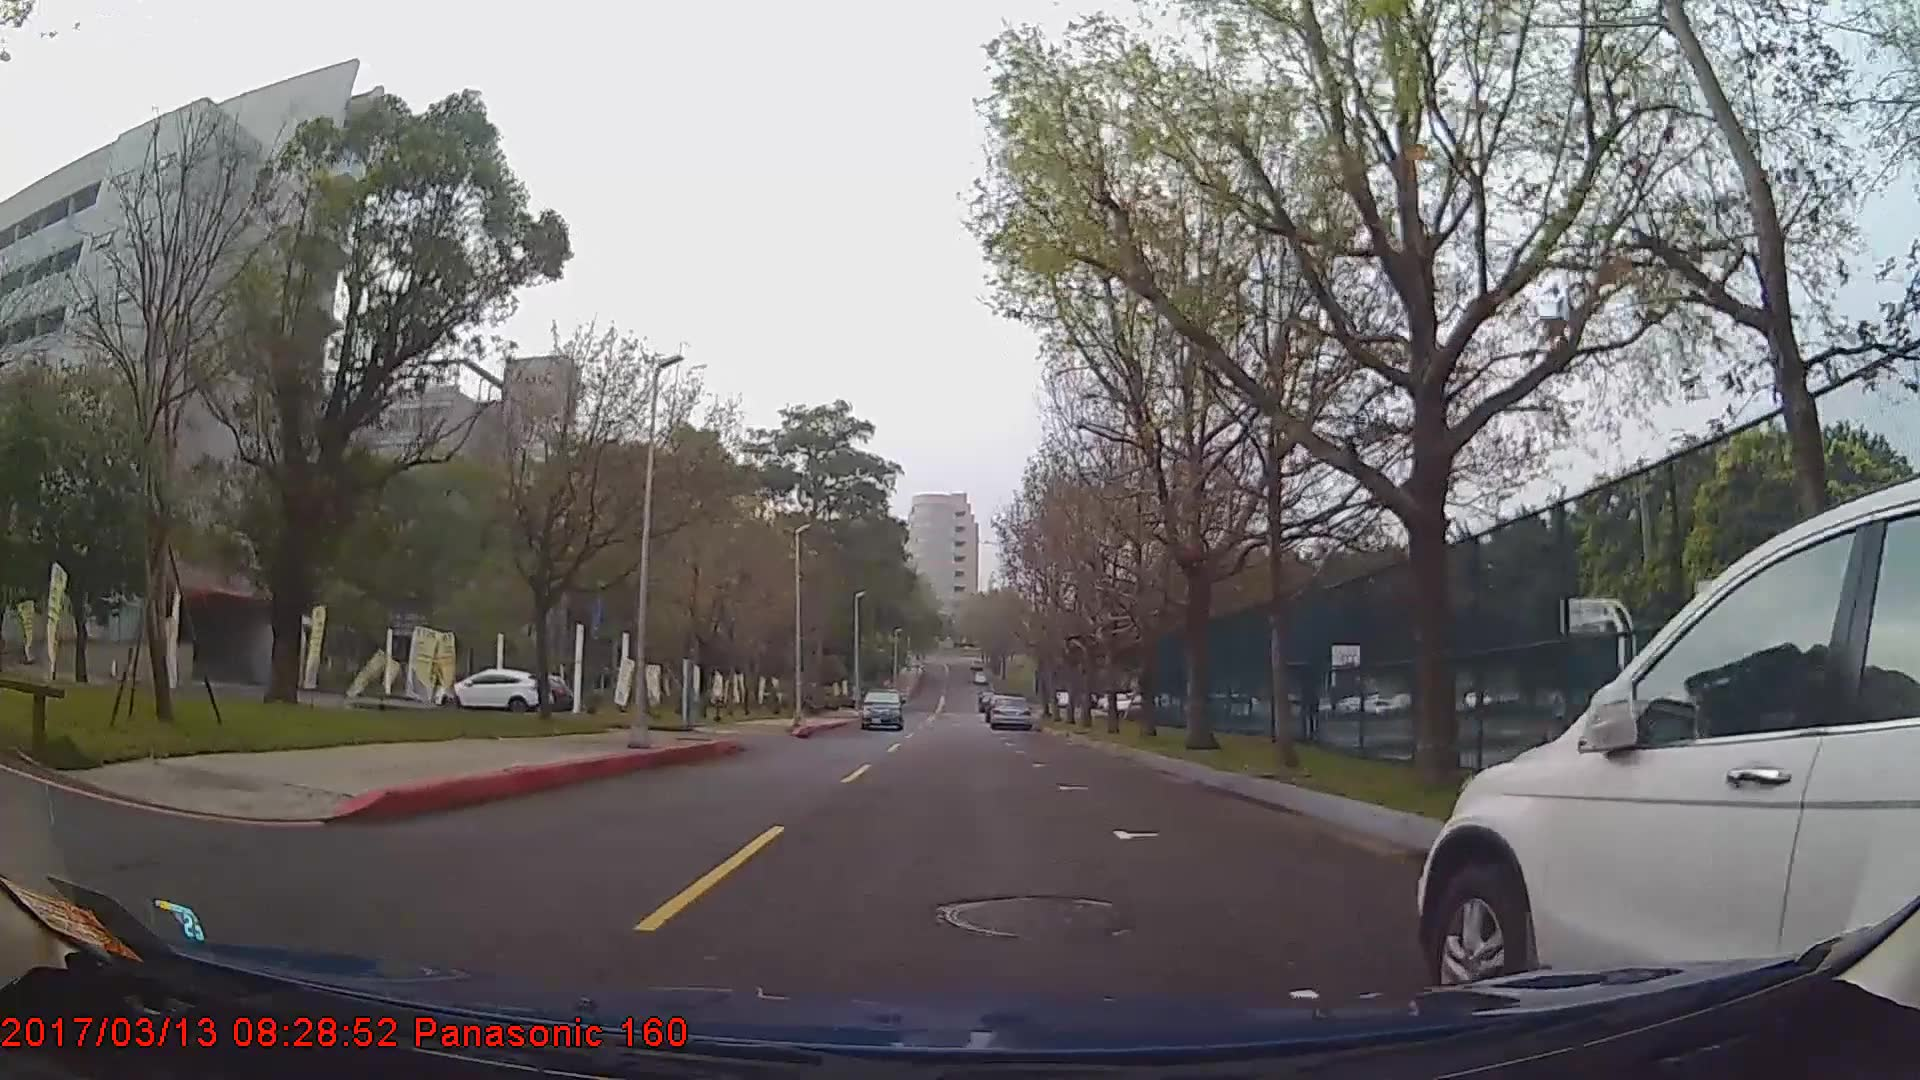vehicle: (1416, 481, 1920, 1026), (436, 666, 551, 715), (858, 684, 903, 732), (988, 694, 1033, 732)
